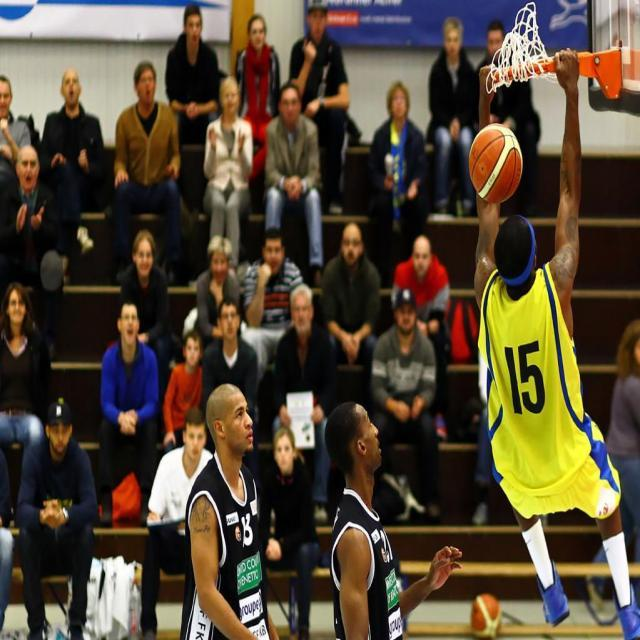rim: (470, 127, 522, 200)
